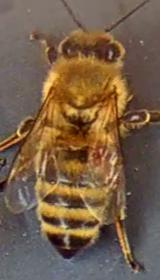varroa_mite: (78, 130, 120, 171)
